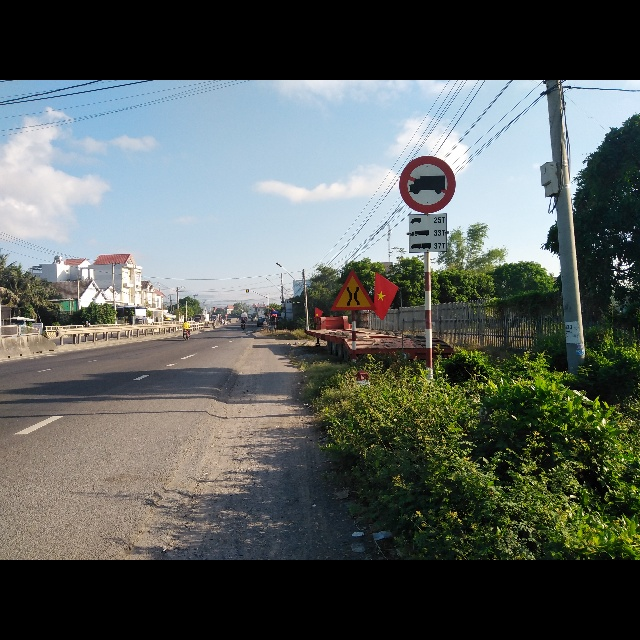Cấm xe tải: (397, 155, 458, 214)
Cầu hẹp: (331, 271, 375, 312)
